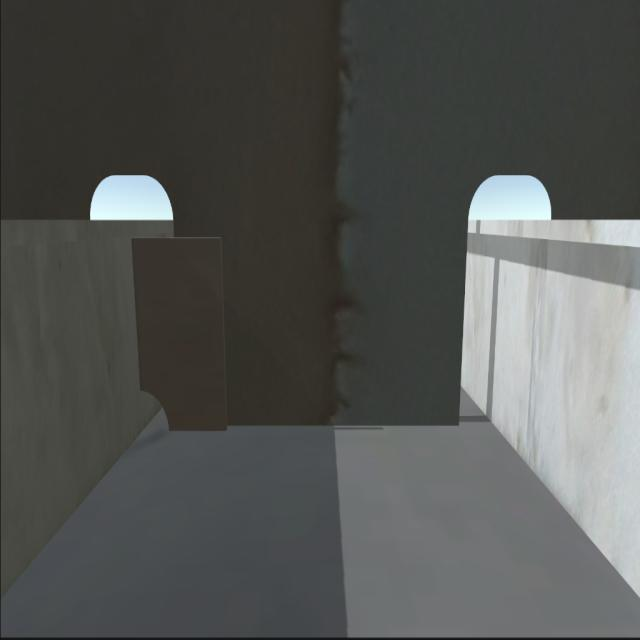fillet_hole: (140, 388, 170, 435)
fillet_yong_jeop_jang: (163, 411, 458, 433)
longi_yong_jeop_jang: (122, 229, 150, 391)
plate_CP01: (131, 234, 231, 428)
